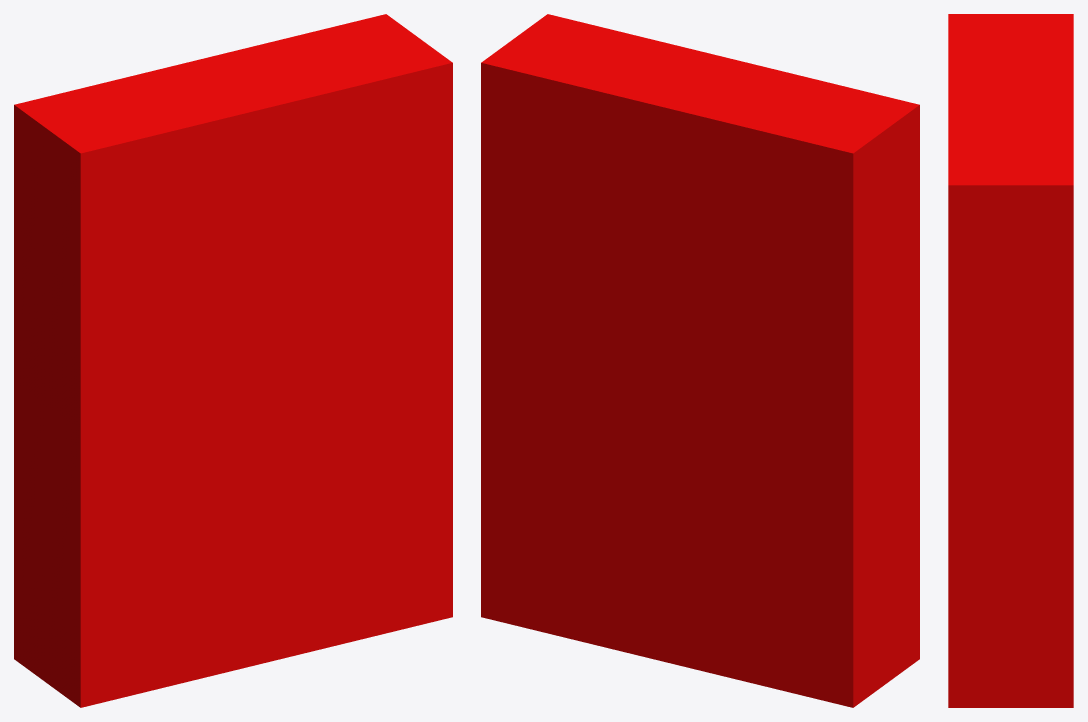
The model's file is cerv1_col.dae.
3 renders of one model, left to right at view 1: azimuth 30°, elevation 25°; view 2: azimuth 150°, elevation 25°; view 3: azimuth 270°, elevation 25°, orthographic. The views are drawn at different scales.
Parts seen in each view (by area): view 1: node0; view 2: node0; view 3: node0.
Part boxes in pixels (left/top/right/bottom): node0: left=14, top=14, right=452, bottom=707; node0: left=481, top=14, right=919, bottom=707; node0: left=948, top=14, right=1073, bottom=707.
Size of the model in its own units: 0.0575 by 0.0819 by 0.0178.
